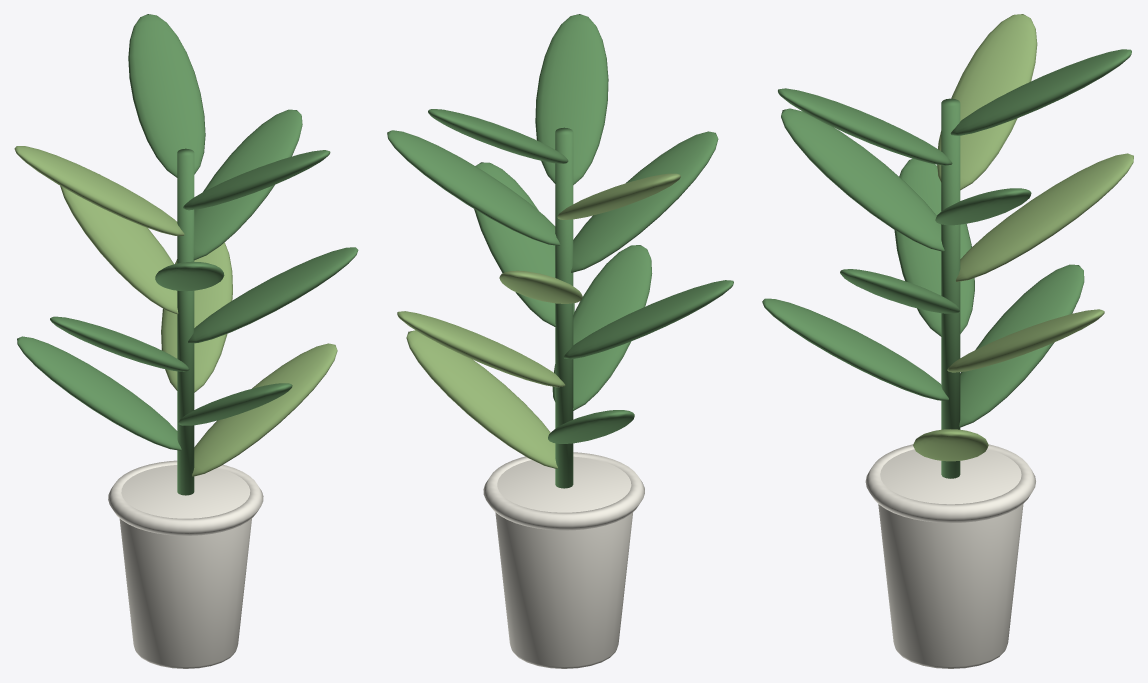
The model's file is atelier-decorative-branches.glb.
3 renders of one model, left to right at view 1: azimuth 30°, elevation 25°; view 2: azimuth 150°, elevation 25°; view 3: azimuth 270°, elevation 25°, orthographic. The views are drawn at different scales.
Visible parts, largest first — view 1: leaf.015, ceramic.051, leafLight.011; view 2: leaf.015, ceramic.051, leafLight.011; view 3: leaf.015, ceramic.051, leafLight.011.
Boxes of the visible parts, x1,y1,x2,y2 form: leaf.015: [17, 14, 358, 495]; ceramic.051: [108, 460, 263, 668]; leafLight.011: [14, 146, 337, 476]; leaf.015: [387, 14, 733, 488]; ceramic.051: [483, 452, 644, 668]; leafLight.011: [397, 173, 680, 468]; leaf.015: [762, 49, 1131, 478]; ceramic.051: [865, 444, 1035, 668]; leafLight.011: [913, 14, 1133, 461].
Bounding box in the file's own units: 0.5954 × 1.08 × 0.5885.
